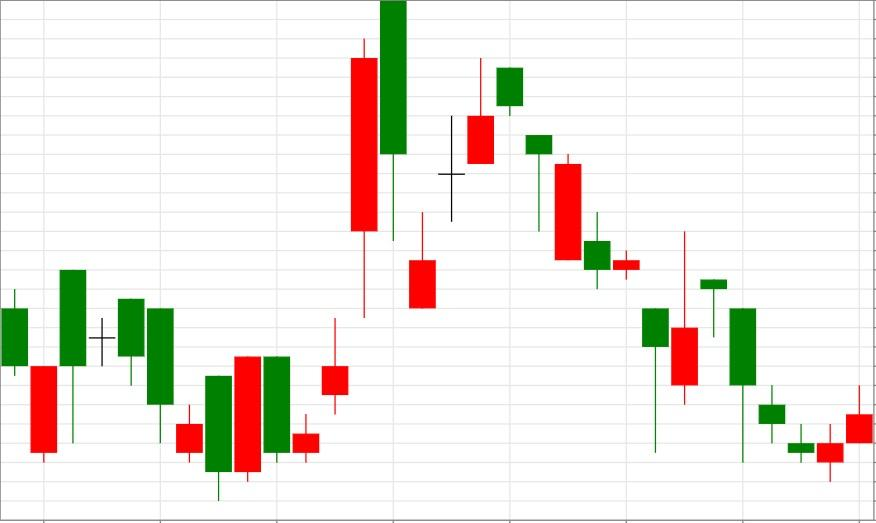hammer_rise: (496, 67, 670, 453)
